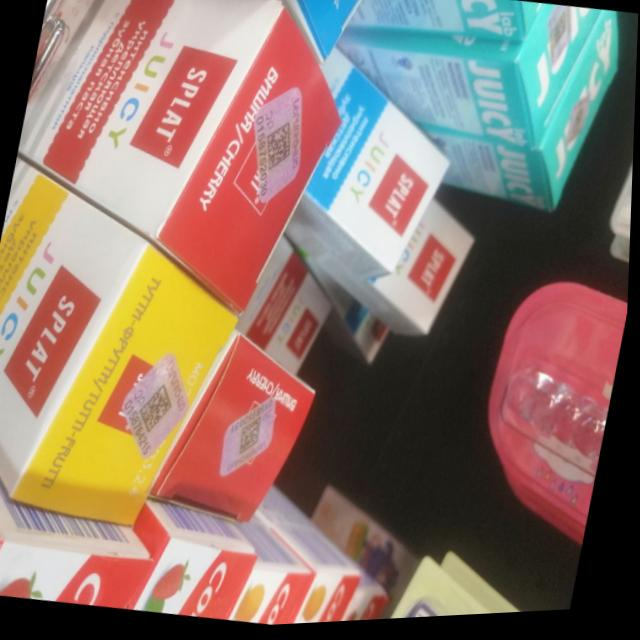datamatrix: (138, 382, 180, 440), (262, 122, 300, 181), (240, 416, 269, 462)
